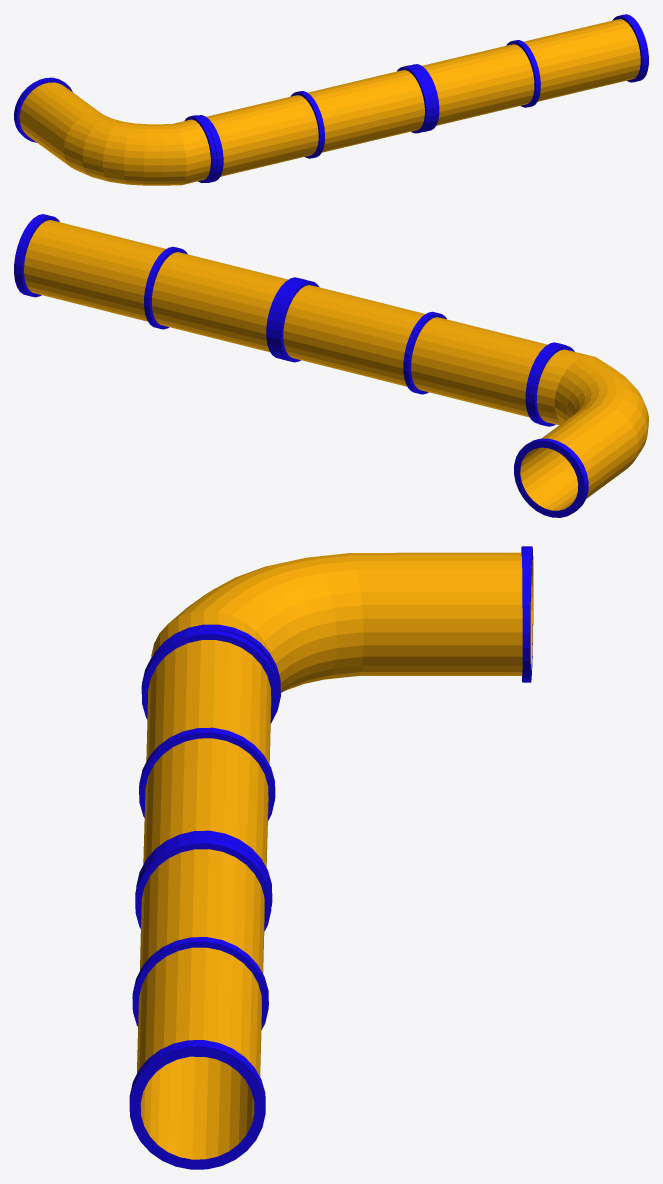
Rendered from TUNNEL.FBX.
3 renders of one model, top to bottom at view 1: azimuth 30°, elevation 25°; view 2: azimuth 150°, elevation 25°; view 3: azimuth 270°, elevation 25°, orthographic. The views are drawn at different scales.
Visible parts, largest first — view 1: Object002, Object001, Line001.001; view 2: Object001, Object002, Line001.001; view 3: Object001, Line001.001, Object002.
Boxes of the visible parts, x1,y1,x2,y2 form: Object002: (198,65,432,182); Object001: (411,14,648,131); Line001.001: (14,77,216,185); Object001: (14,214,304,359); Object002: (273,279,566,423); Line001.001: (514,344,648,517); Object001: (129,837,271,1169); Line001.001: (151,546,533,723); Object002: (136,628,277,906).
Size of the model in its own units: 99.92 by 11.07 by 32.67.
